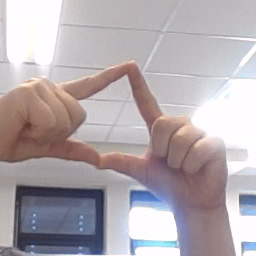J: (2, 59, 230, 205)
